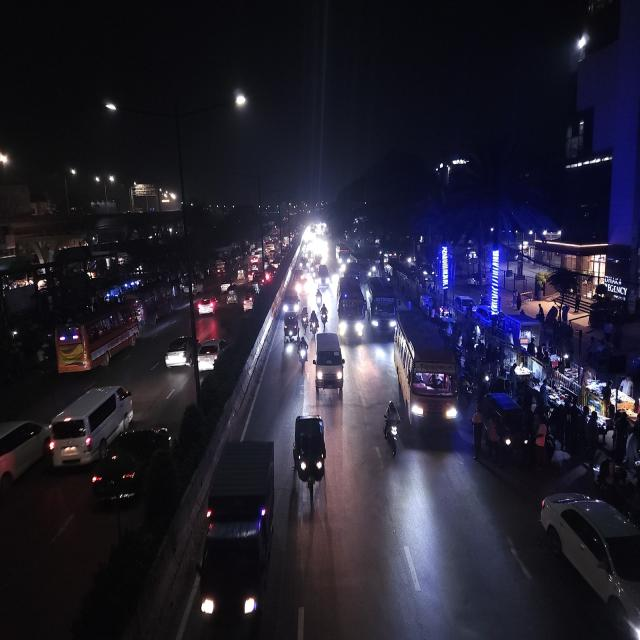bus: (393, 307, 461, 441), (54, 304, 140, 376), (337, 271, 368, 346), (366, 275, 396, 341), (130, 286, 168, 326)
car: (536, 484, 640, 640), (45, 380, 135, 469), (90, 419, 173, 513), (0, 414, 47, 506), (314, 330, 346, 400), (163, 332, 194, 373), (198, 336, 228, 374), (281, 288, 302, 318), (196, 294, 218, 316), (316, 262, 332, 290), (240, 292, 256, 316)
cng: (477, 389, 533, 468), (289, 411, 329, 500), (281, 310, 299, 343), (224, 284, 240, 306)
motorcycle: (380, 396, 402, 461), (297, 336, 309, 371), (320, 302, 330, 331), (309, 308, 319, 337), (314, 286, 324, 308)
truck: (198, 433, 278, 638)
